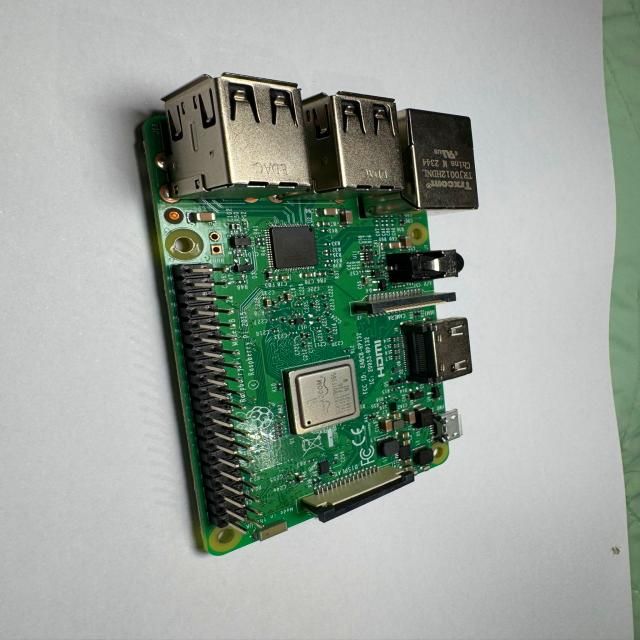CPU: (281, 358, 362, 438)
GPIO: (165, 267, 247, 526)
RAM-3: (265, 224, 323, 274)
Raspberry: (134, 74, 479, 558)
